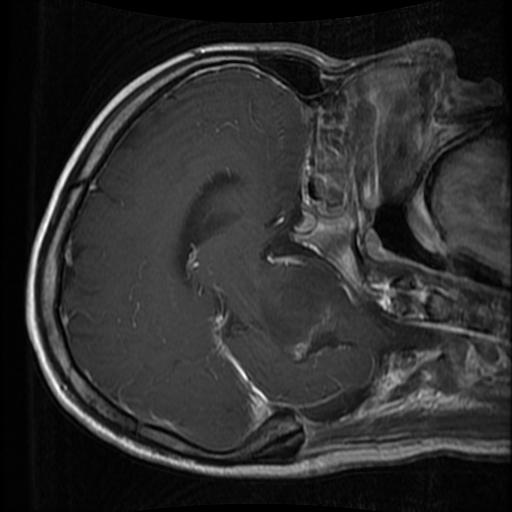glioma: (262, 258, 331, 359)
